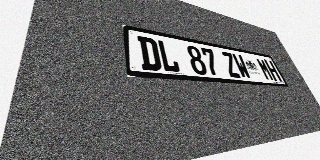7: (199, 47, 222, 76)
8: (185, 45, 208, 75)
D: (137, 36, 162, 71)
H: (263, 59, 282, 82)
L: (156, 39, 181, 73)
M: (255, 58, 275, 81)
W: (231, 53, 252, 79)
Z: (220, 51, 242, 78)
